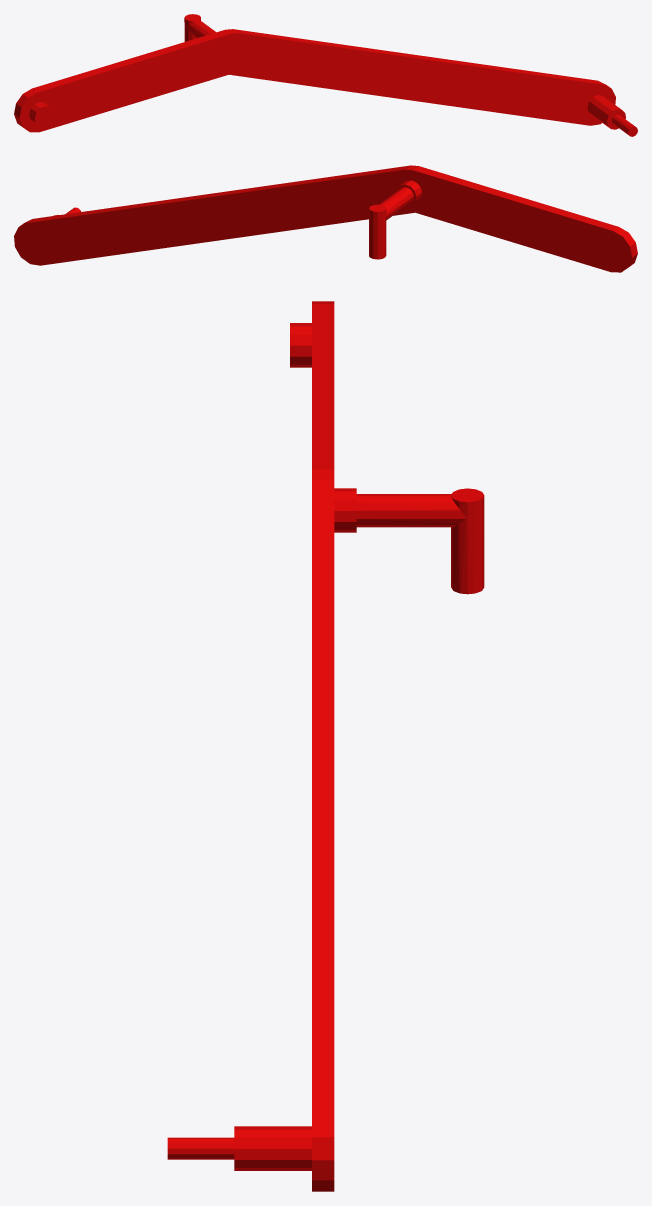
File: RightMainRocket.dae
The picture shows the model from 3 angles, top to bottom: view 1: azimuth 30°, elevation 25°; view 2: azimuth 150°, elevation 25°; view 3: azimuth 270°, elevation 25°; orthographic projection. The views are drawn at different scales.
Parts seen in each view (by area): view 1: RightMainRocket.001; view 2: RightMainRocket.001; view 3: RightMainRocket.001.
Part boxes in pixels (x1,y1,x2,y2): RightMainRocket.001: [14, 14, 637, 136]; RightMainRocket.001: [14, 165, 637, 272]; RightMainRocket.001: [167, 301, 484, 1191].
Bounding box in the file's own units: 1.24 × 0.285 × 0.3588.
